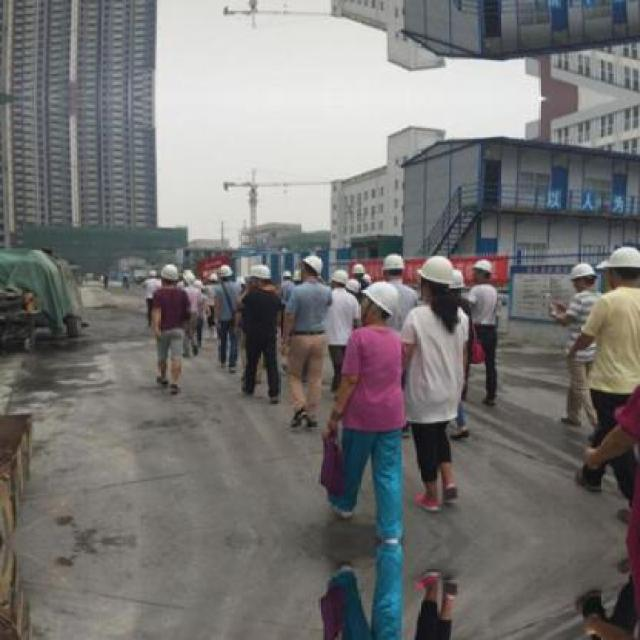helmet: (363, 281, 406, 325), (418, 254, 458, 300), (603, 244, 637, 292), (566, 258, 597, 296), (380, 250, 408, 282), (297, 252, 325, 280), (469, 254, 491, 284), (155, 261, 177, 286), (214, 261, 234, 283), (329, 266, 348, 288), (251, 261, 269, 283), (179, 272, 196, 288), (350, 261, 364, 277)
